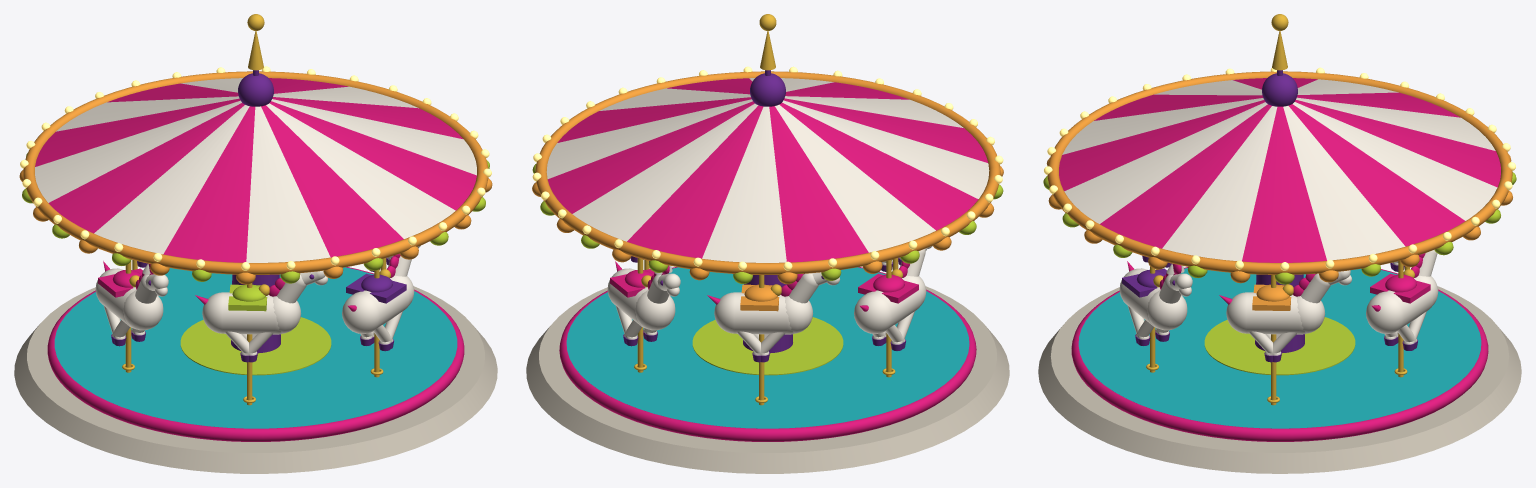
Rendered from carousel.glb.
3 renders of one model, left to right at view 1: azimuth 30°, elevation 25°; view 2: azimuth 150°, elevation 25°; view 3: azimuth 270°, elevation 25°, orthographic.
Parts seen in each view (by area): view 1: deck, base_pad, canopy_rim, canopy_panel_12, canopy_panel_11, deck_edge, canopy_panel_13, canopy_panel_10, canopy_panel_14, canopy_panel_9, canopy_panel_15, deck_inlay (+18 smaller); view 2: deck, base_pad, canopy_rim, canopy_panel_6, canopy_panel_7, deck_edge, canopy_panel_5, canopy_panel_8, canopy_panel_4, canopy_panel_9, canopy_panel_3, deck_inlay (+18 smaller); view 3: deck, base_pad, canopy_rim, canopy_panel_1, canopy_panel_0, canopy_panel_2, deck_edge, canopy_panel_15, canopy_panel_3, canopy_panel_14, canopy_panel_4, deck_inlay (+18 smaller).
Boxes of the visible parts, <box> form: deck: <box>54,267,457,428</box>; base_pad: <box>14,273,497,473</box>; canopy_rim: <box>23,71,488,274</box>; canopy_panel_12: <box>246,106,330,262</box>; canopy_panel_11: <box>163,106,255,262</box>; deck_edge: <box>47,267,464,441</box>; canopy_panel_13: <box>261,105,403,257</box>; canopy_panel_10: <box>94,105,249,254</box>; canopy_panel_14: <box>266,103,455,238</box>; canopy_panel_9: <box>49,103,244,233</box>; canopy_panel_15: <box>269,101,476,210</box>; deck_inlay: <box>180,317,331,375</box>; deck: <box>566,267,969,428</box>; base_pad: <box>526,272,1009,473</box>; canopy_rim: <box>535,71,1000,274</box>; canopy_panel_6: <box>702,106,786,262</box>; canopy_panel_7: <box>769,106,868,262</box>; deck_edge: <box>559,267,976,441</box>; canopy_panel_5: <box>627,105,763,258</box>; canopy_panel_8: <box>775,104,935,252</box>; canopy_panel_4: <box>572,103,758,241</box>; canopy_panel_9: <box>779,102,978,230</box>; canopy_panel_3: <box>547,101,754,213</box>; deck_inlay: <box>692,317,843,375</box>; deck: <box>1078,268,1481,428</box>; base_pad: <box>1038,286,1521,473</box>; canopy_rim: <box>1047,71,1512,274</box>; canopy_panel_1: <box>1242,106,1326,262</box>; canopy_panel_0: <box>1162,106,1277,260</box>; canopy_panel_2: <box>1283,105,1405,260</box>; deck_edge: <box>1071,267,1488,441</box>; canopy_panel_15: <box>1100,104,1271,248</box>; canopy_panel_3: <box>1289,104,1465,246</box>; canopy_panel_14: <box>1064,102,1267,223</box>; canopy_panel_4: <box>1293,102,1497,220</box>; deck_inlay: <box>1204,317,1355,375</box>.
Bounding box in the file's own units: 9.6 × 7.82 × 9.6.
